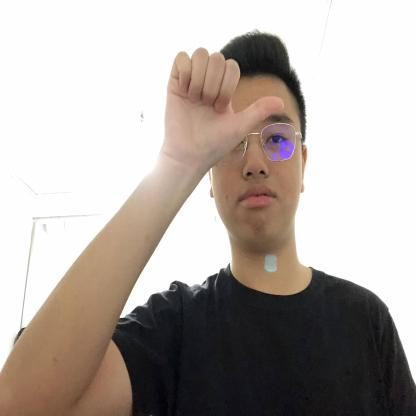left: (163, 46, 286, 167)
